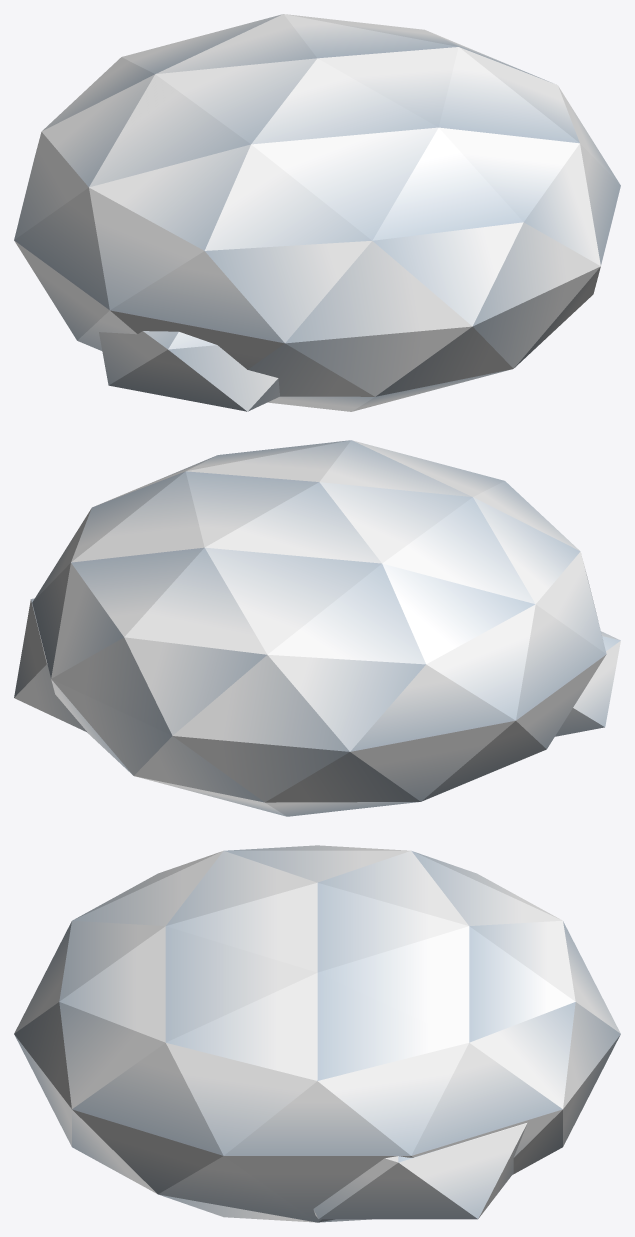
Rendered from dt_snow_pile.fbx.
The picture shows the model from 3 angles, top to bottom: view 1: azimuth 30°, elevation 25°; view 2: azimuth 150°, elevation 25°; view 3: azimuth 270°, elevation 25°; orthographic projection. The views are drawn at different scales.
Parts seen in each view (by area): view 1: dt_snow_pile; view 2: dt_snow_pile; view 3: dt_snow_pile.
Boxes of the visible parts, x1,y1,x2,y2 form: dt_snow_pile: (14,14,620,411); dt_snow_pile: (14,440,620,816); dt_snow_pile: (14,845,620,1222).
Bounding box in the file's own units: 579 × 330 × 600.
